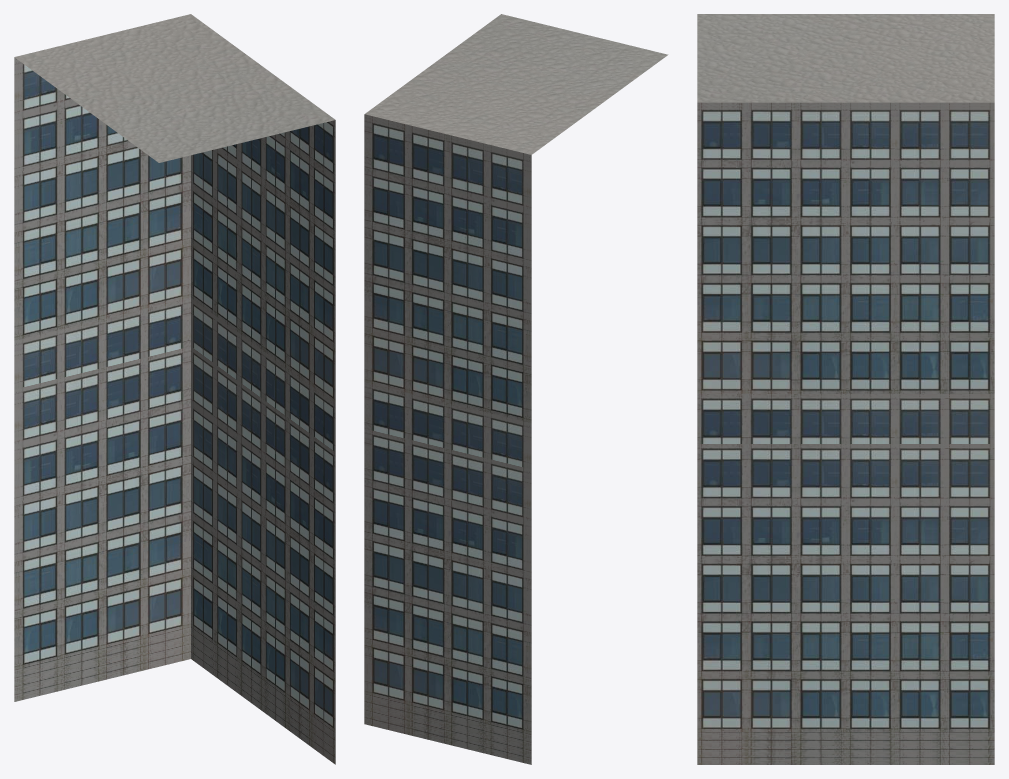
File: edificio javier 1.FBX
3 views of the same model, side by side, from view 1: azimuth 30°, elevation 25°; view 2: azimuth 150°, elevation 25°; view 3: azimuth 270°, elevation 25° (orthographic). The views are drawn at different scales.
Visible parts, largest first — view 1: Box151; view 2: Box151; view 3: Box151.
Part boxes in pixels (left/top/right/bottom): Box151: left=14, top=14, right=335, bottom=764; Box151: left=364, top=14, right=668, bottom=764; Box151: left=697, top=14, right=994, bottom=764.
Bounding box in the file's own units: 614 × 2141 × 871.
1 material, 1 textured.
